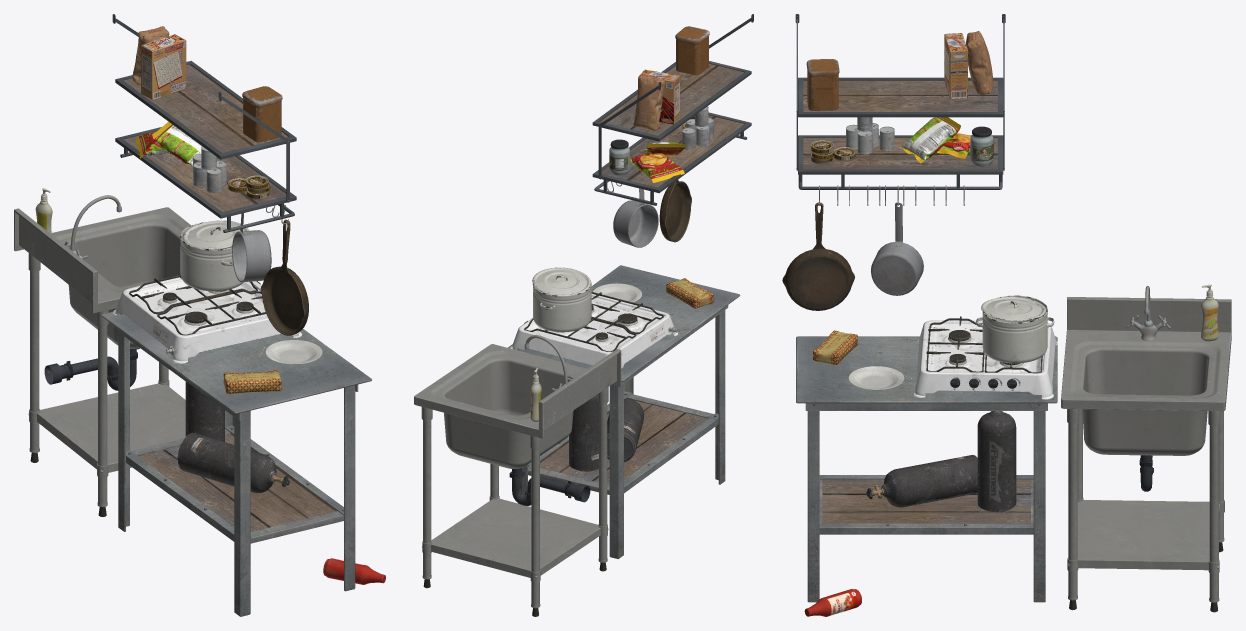
The model's file is kitchen_-_assets.glb.
3 renders of one model, left to right at view 1: azimuth 30°, elevation 25°; view 2: azimuth 150°, elevation 25°; view 3: azimuth 270°, elevation 25°, orthographic. The views are drawn at different scales.
Parts seen in each view (by area): view 1: Sink.001_47, CookingTable.001_3, PotRack.001_7, CookingTable_Legs.001_2, PortableStove_Base.001_42, Sink_Legs_LP.001_46, CookingTable_Shelf.001_4, GasCylinder.002_36, Kitchenware_Pan_IronCast.001_9, Food_CardboardPackage_Thick.001_15, Kitchenware_Stewpot.001_11, Kitchenware_Pot.001_8 (+15 smaller); view 2: Sink.001_47, CookingTable.001_3, PotRack.001_7, Sink_Legs_LP.001_46, PortableStove_Base.001_42, CookingTable_Legs.001_2, CookingTable_Shelf.001_4, Kitchenware_Stewpot.001_11, GasCylinder.001_34, Kitchenware_Pot.001_8, Kitchenware_Pan_IronCast.001_9, Kitchenware_Stewpot_Lid_LP.001_10 (+13 smaller); view 3: Sink.001_47, CookingTable.001_3, PotRack.001_7, PortableStove_Base.001_42, Sink_Legs_LP.001_46, CookingTable_Legs.001_2, GasCylinder.001_34, Kitchenware_Pan_IronCast.001_9, GasCylinder.002_36, CookingTable_Shelf.001_4, Kitchenware_Stewpot.001_11, Kitchenware_Pot.001_8 (+12 smaller).
Part boxes in pixels (x1,y1,x2,y2): Sink.001_47: (14,207,190,472); CookingTable.001_3: (101,312,371,531); PotRack.001_7: (115,60,296,218); CookingTable_Legs.001_2: (118,332,355,616); PortableStove_Base.001_42: (113,277,302,363); Sink_Legs_LP.001_46: (28,253,169,516); CookingTable_Shelf.001_4: (126,425,343,543); GasCylinder.002_36: (177,432,276,492); Kitchenware_Pan_IronCast.001_9: (260,219,308,335); Food_CardboardPackage_Thick.001_15: (141,34,186,99); Kitchenware_Stewpot.001_11: (180,222,243,291); Kitchenware_Pot.001_8: (232,213,271,282); Sink.001_47: (414,344,621,577); CookingTable.001_3: (508,265,740,484); PotRack.001_7: (592,61,751,193); Sink_Legs_LP.001_46: (421,387,608,616); PortableStove_Base.001_42: (510,293,678,368); CookingTable_Legs.001_2: (518,310,725,559); CookingTable_Shelf.001_4: (528,391,718,494); Kitchenware_Stewpot.001_11: (532,281,591,332); GasCylinder.001_34: (569,394,598,471); Kitchenware_Pot.001_8: (613,188,658,247); Kitchenware_Pan_IronCast.001_9: (659,180,691,242); Kitchenware_Stewpot_Lid_LP.001_10: (532,267,590,295); Sink.001_47: (1061,297,1231,570); CookingTable.001_3: (796,336,1057,523); PotRack.001_7: (798,77,1003,174); PortableStove_Base.001_42: (913,320,1057,399); Sink_Legs_LP.001_46: (1067,409,1224,612); CookingTable_Legs.001_2: (807,411,1045,602); GasCylinder.001_34: (977,411,1016,512); Kitchenware_Pan_IronCast.001_9: (782,202,854,310); GasCylinder.002_36: (881,455,977,507); CookingTable_Shelf.001_4: (819,475,1033,534); Kitchenware_Stewpot.001_11: (976,295,1054,363); Kitchenware_Pot.001_8: (871,202,923,295).
Bounding box in the file's own units: 0.753 × 2.25 × 1.74.
7 materials, 7 textured.
